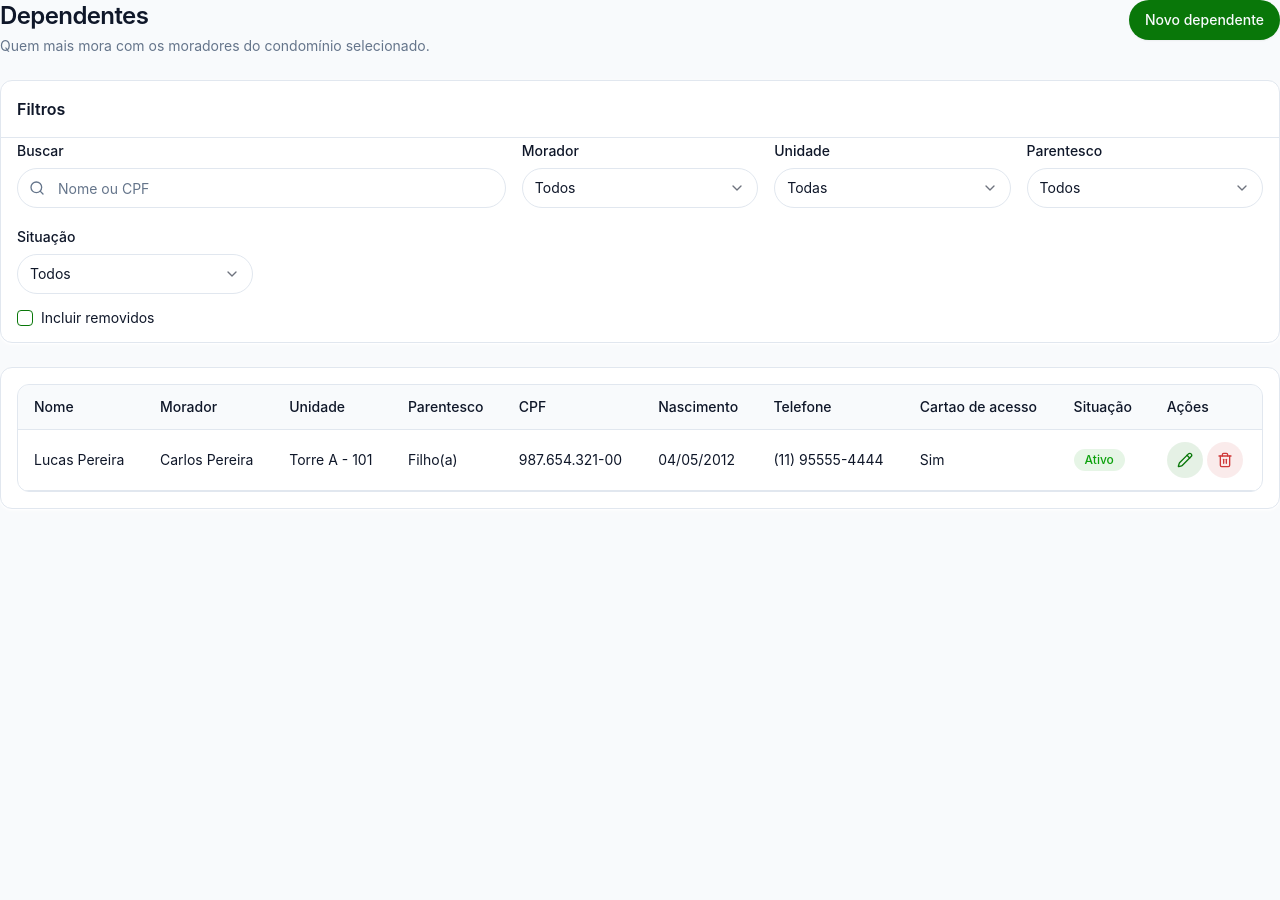
Exclusao e restauração de dependentes › a exclusao pede confirmação antes de chegar ao servidor
Expected: the text "Lucas Pereira" is shown, [34, 450, 124, 470]
Click the button named "Excluir Lucas Pereira" at (1225,460), box [1207, 442, 1243, 478]
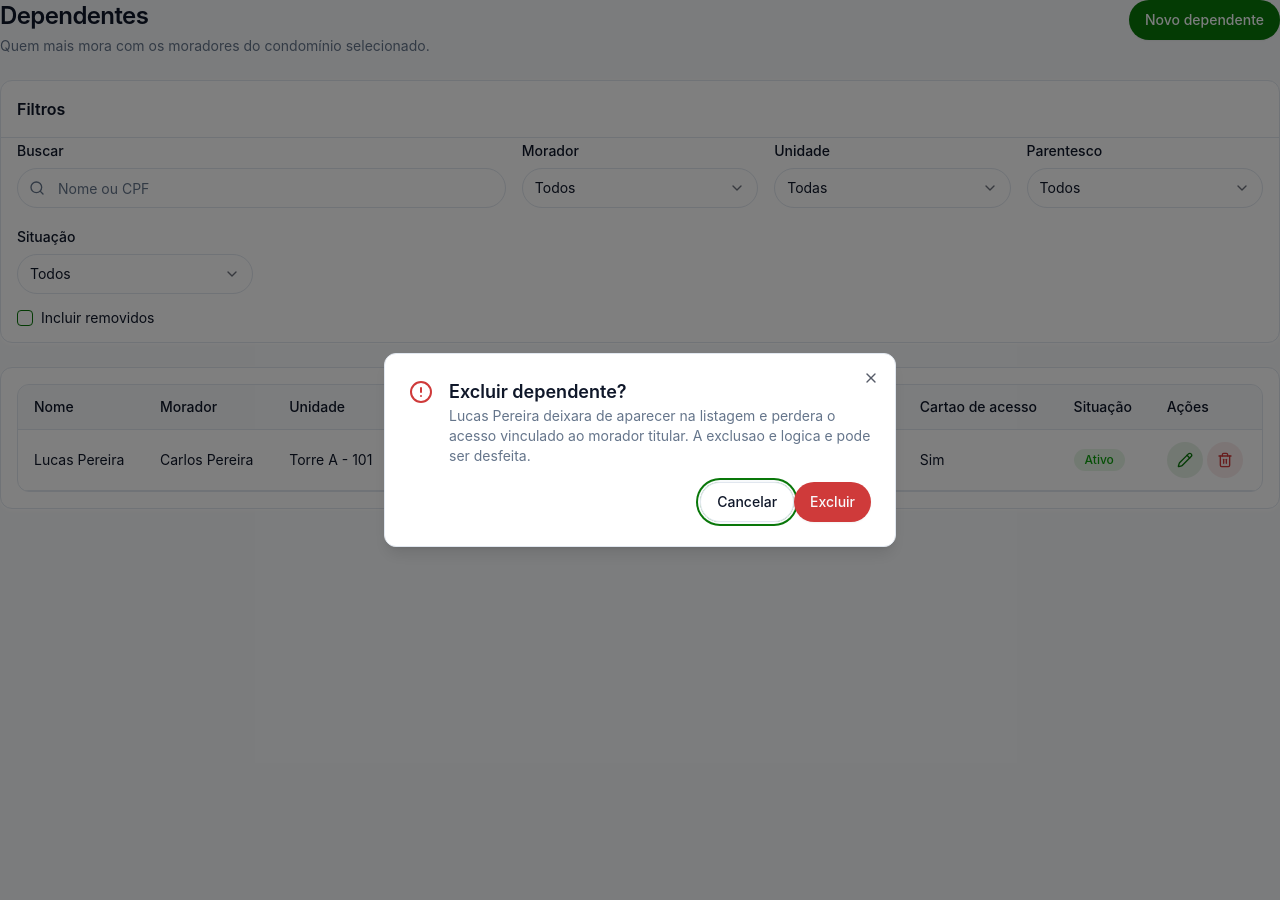
Result: the heading "Excluir dependente?" is shown at [449, 381, 627, 402]
Click the button "Excluir" at (833,502), box [794, 482, 871, 522]
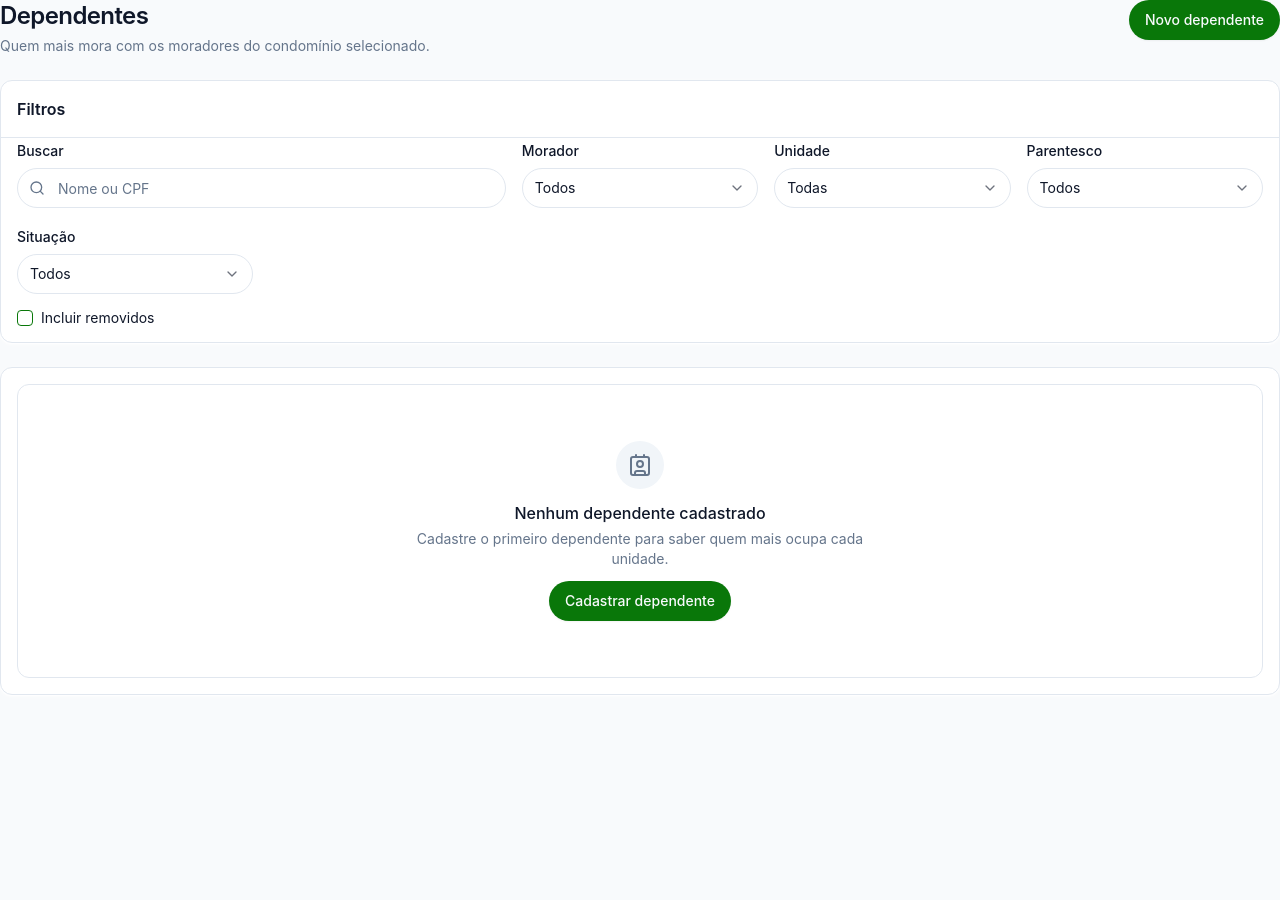
Result: the text "Lucas Pereira" is gone
